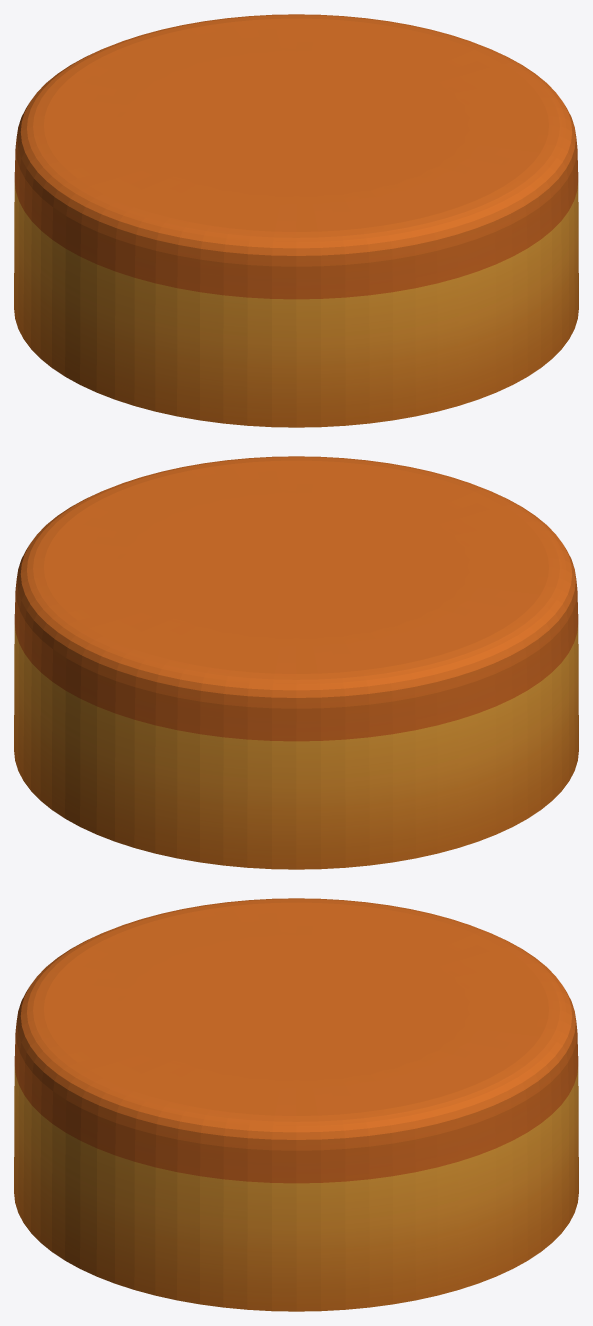
The model's file is cake04.FBX.
3 views of the same model, one above another, from view 1: azimuth 30°, elevation 25°; view 2: azimuth 150°, elevation 25°; view 3: azimuth 270°, elevation 25° (orthographic).
Parts seen in each view (by area): view 1: cake04; view 2: cake04; view 3: cake04.
Part boxes in pixels (x1,y1,x2,y2): cake04: [14, 14, 578, 427]; cake04: [14, 456, 578, 869]; cake04: [14, 898, 578, 1311].
Bounding box in the file's own units: 0.0193 × 0.00693 × 0.0193.
